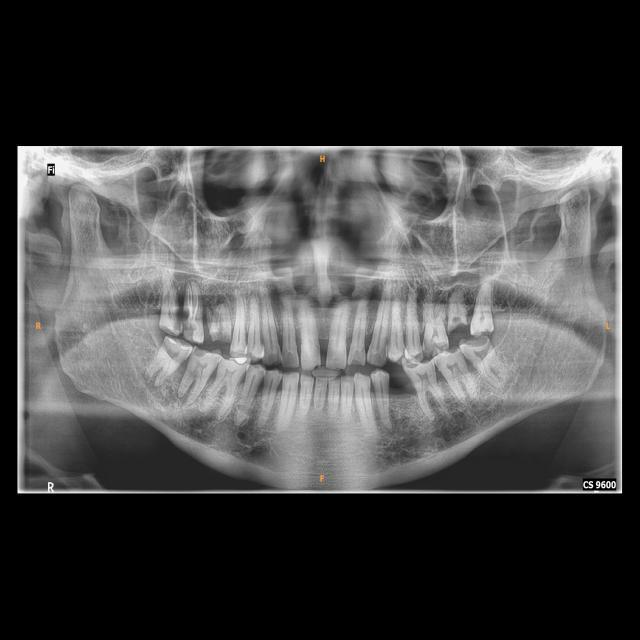dentin-curugu: (161, 298, 183, 339), (464, 333, 493, 358), (182, 301, 198, 345), (421, 334, 449, 354), (192, 346, 214, 364), (282, 350, 298, 369)
dolgu: (223, 351, 249, 376)
kanal-tedavisi: (187, 285, 204, 315)
kirik: (208, 326, 234, 353), (446, 317, 470, 338)
